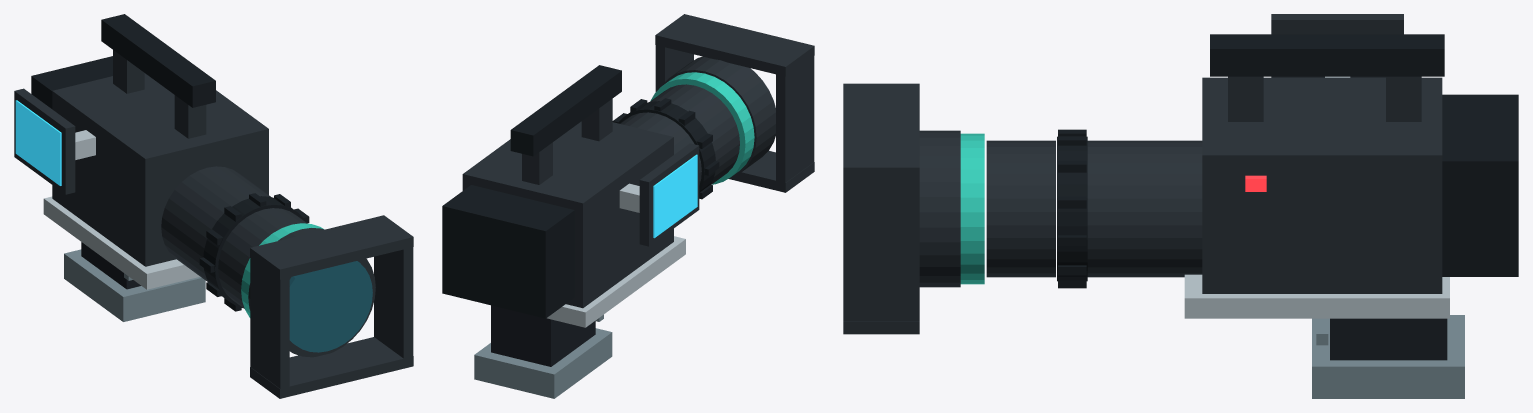
Rendered from static.glb.
3 views of the same model, side by side, from view 1: azimuth 30°, elevation 25°; view 2: azimuth 150°, elevation 25°; view 3: azimuth 270°, elevation 25° (orthographic). The views are drawn at different scales.
Parts seen in each view (by area): view 1: static_baseplate, static_grip; view 2: static_baseplate, static_grip; view 3: static_baseplate, static_grip.
Boxes of the visible parts, x1,y1,x2,y2 form: static_baseplate: (14,14,413,398); static_grip: (64,242,205,321); static_baseplate: (442,14,814,327); static_grip: (474,305,612,398); static_baseplate: (843,14,1518,334); static_grip: (1312,315,1464,398).
Bounding box in the file's own units: 0.268 × 0.3585 × 0.662.
